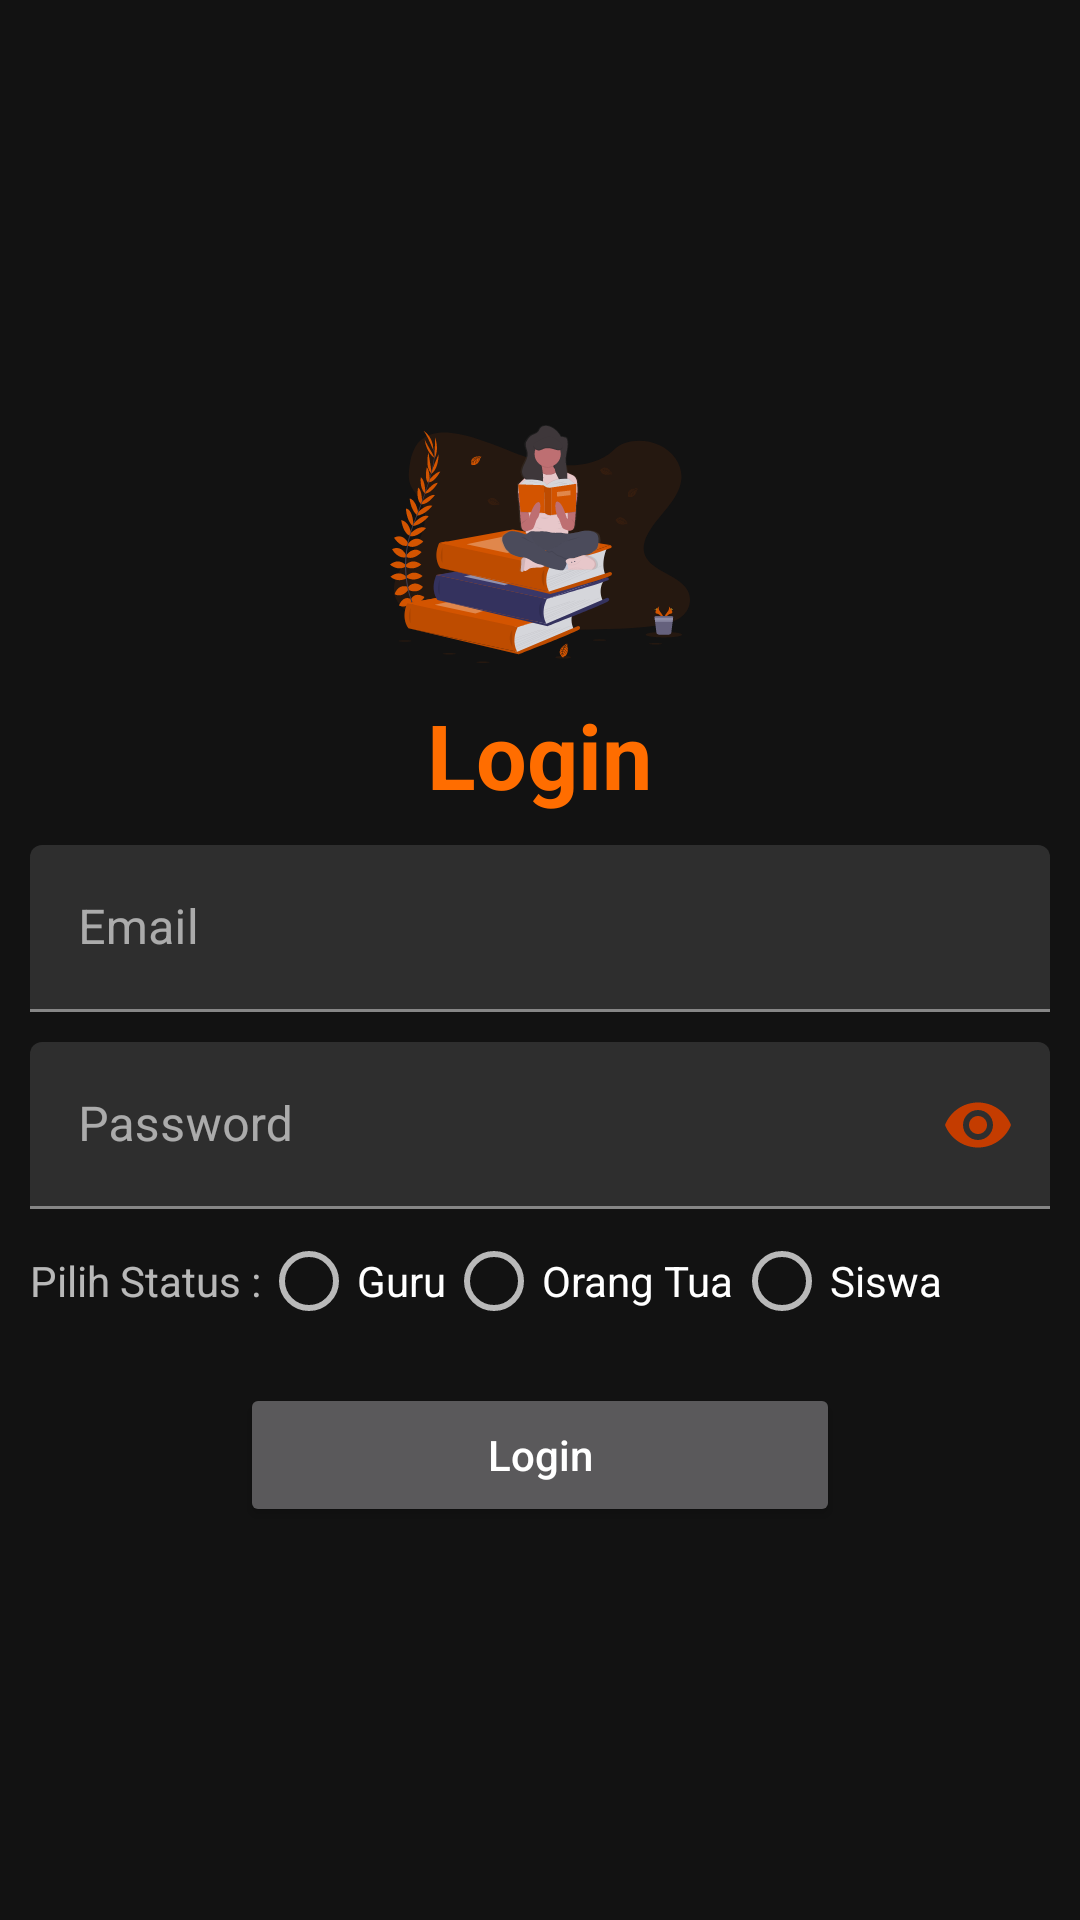

Screen size 1080x1920. Icon name, then its box in pixels as [left=x1, top=y1, right=x2, bottom=y2]:
art: [left=390, top=425, right=690, bottom=663]
